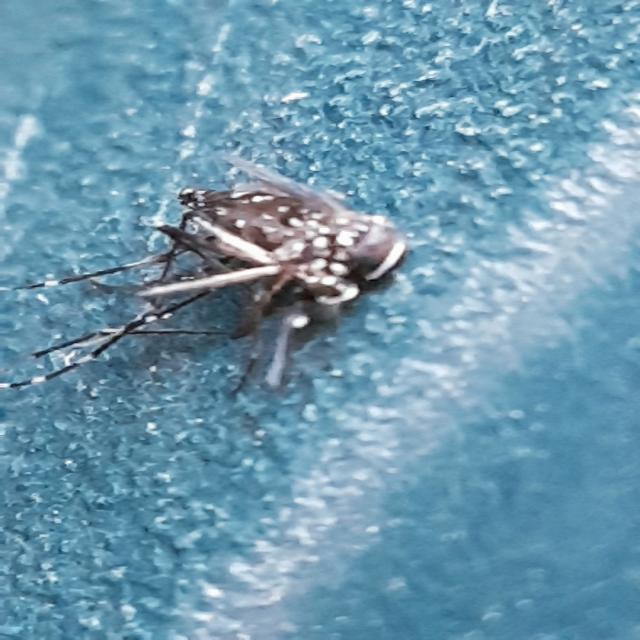albopictus: (1, 158, 423, 388)
